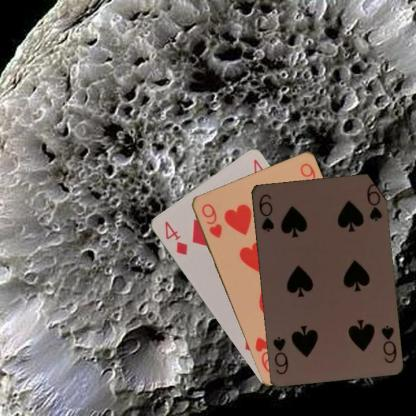4d: (161, 219, 189, 256)
6s: (256, 191, 276, 233), (378, 322, 397, 364)
9h: (199, 200, 223, 240)
